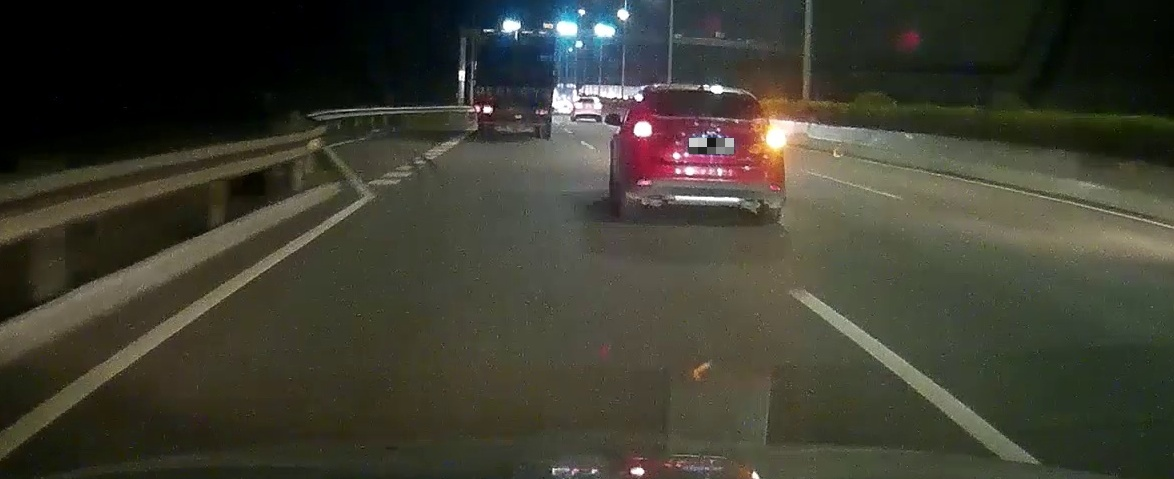L_light: (632, 120, 655, 140), (476, 105, 492, 114)
R_light: (762, 127, 786, 148), (534, 106, 549, 116)
T_light: (696, 89, 717, 96), (507, 87, 523, 94)
night-no: (473, 31, 554, 139)
night-right: (625, 83, 786, 221)
plate_1: (689, 138, 734, 154)
